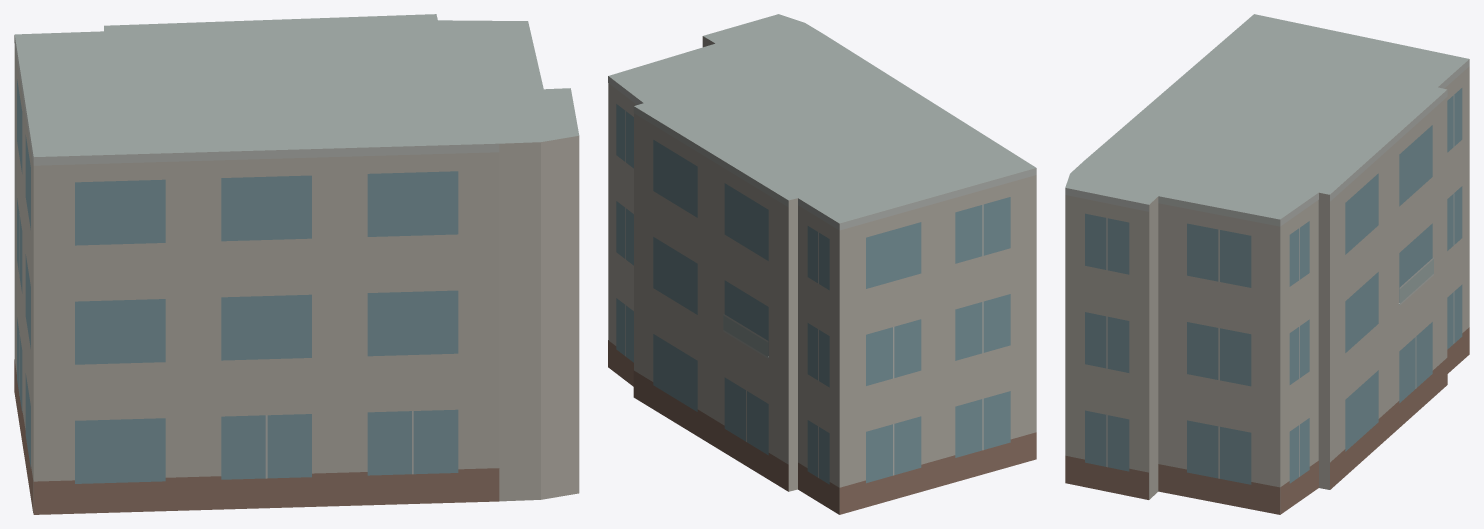
Rendered from survey-upis-32884349.glb.
3 views of the same model, side by side, from view 1: azimuth 30°, elevation 25°; view 2: azimuth 150°, elevation 25°; view 3: azimuth 270°, elevation 25° (orthographic). The views are drawn at different scales.
Parts seen in each view (by area): view 1: survey-upis-32884349.tmp; view 2: survey-upis-32884349.tmp; view 3: survey-upis-32884349.tmp.
Part boxes in pixels (x1,y1,x2,y2): survey-upis-32884349.tmp: (14, 14, 579, 514); survey-upis-32884349.tmp: (608, 14, 1036, 514); survey-upis-32884349.tmp: (1065, 14, 1469, 514).
Size of the model in its own units: 15.24 by 10.2 by 12.67.
